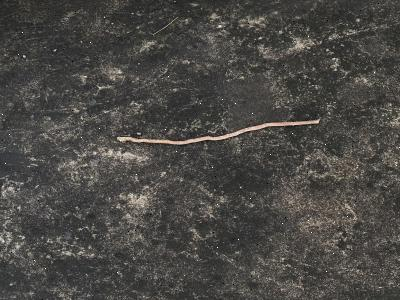Root: (117, 120, 320, 145)
